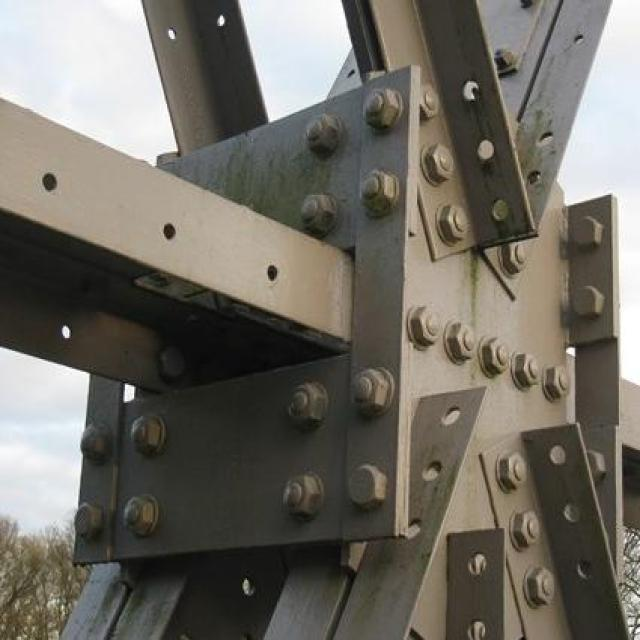blur bolt: (345, 456, 393, 515), (72, 418, 116, 464), (565, 276, 607, 322), (568, 210, 608, 256), (152, 342, 190, 387), (68, 499, 102, 549), (485, 39, 518, 70)
bolt nut: (277, 469, 328, 522), (278, 380, 326, 435), (297, 185, 340, 237), (357, 165, 399, 218), (349, 367, 392, 418), (518, 559, 560, 609), (417, 138, 459, 187), (360, 86, 402, 133), (118, 491, 158, 539), (431, 197, 471, 245), (492, 444, 528, 496), (125, 408, 164, 456), (408, 299, 443, 351), (505, 502, 542, 551), (302, 114, 341, 158), (446, 314, 477, 367), (411, 80, 447, 124), (480, 331, 509, 380), (515, 343, 541, 393), (545, 356, 572, 403), (502, 239, 530, 276)
